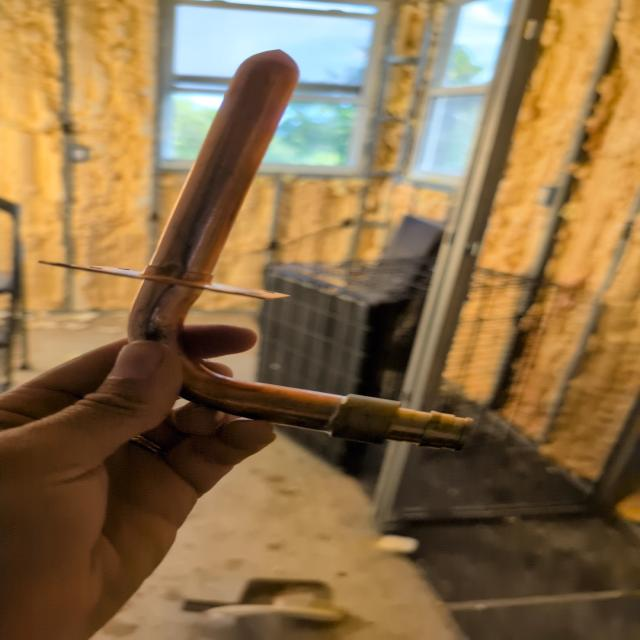wall_flange: (37, 37, 507, 465)
